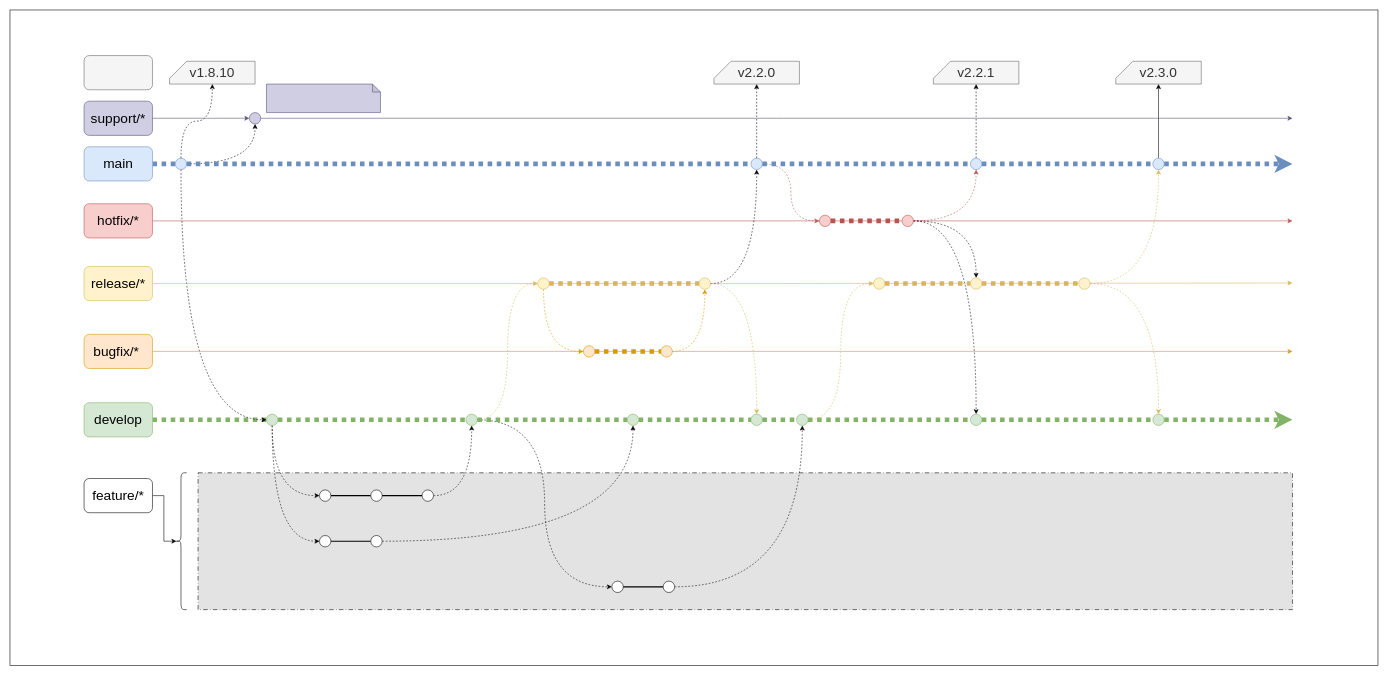
Image size: 1388x675. Some labels were removed from this diagram. The box of each missing label's shape, as (x1, y1, x2, y2) in pixels:
support/v1: (266, 84, 380, 113)
tags: (84, 55, 152, 90)
